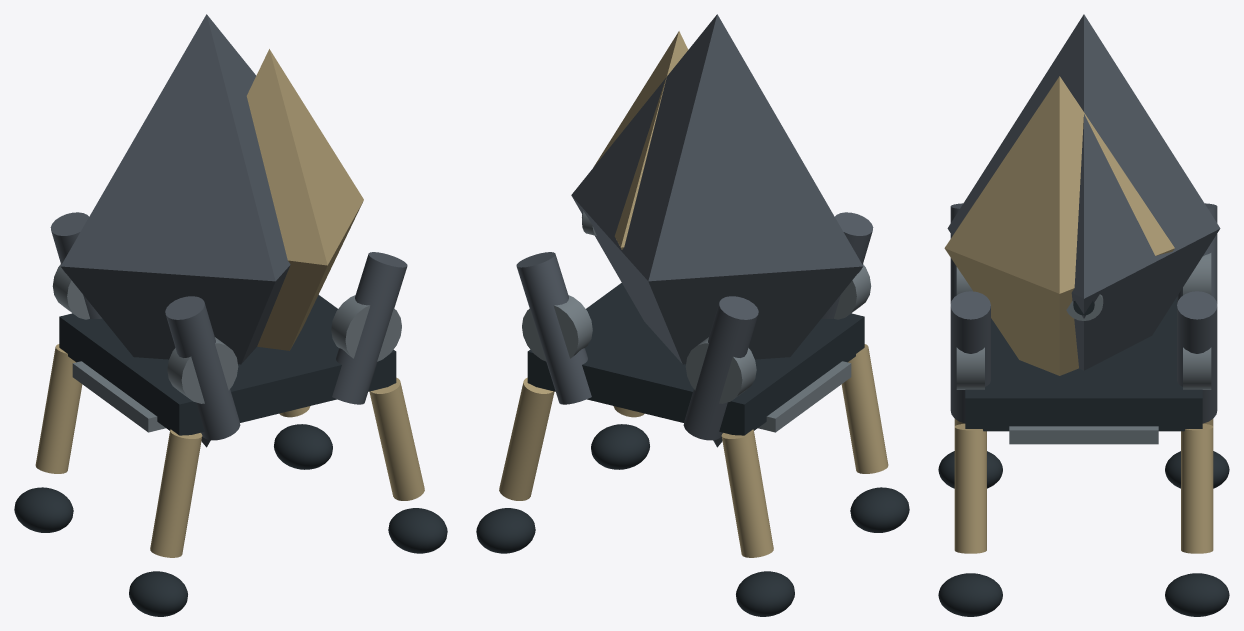
Rendered from warden-early-crawler-faceted-kite-v1.glb.
3 views of the same model, side by side, from view 1: azimuth 30°, elevation 25°; view 2: azimuth 150°, elevation 25°; view 3: azimuth 270°, elevation 25° (orthographic).
Parts seen in each view (by area): view 1: Faceted Kite Crawler · Early Crawler Lab; view 2: Faceted Kite Crawler · Early Crawler Lab; view 3: Faceted Kite Crawler · Early Crawler Lab.
Boxes of the visible parts, x1=… form: Faceted Kite Crawler · Early Crawler Lab: x1=14, y1=14, x2=447, y2=616; Faceted Kite Crawler · Early Crawler Lab: x1=476, y1=14, x2=909, y2=616; Faceted Kite Crawler · Early Crawler Lab: x1=938, y1=14, x2=1229, y2=616.
Size of the model in its own units: 2.64 by 4.13 by 2.07.
